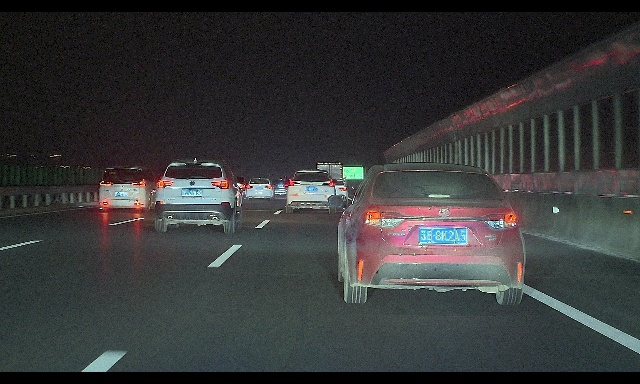car: (326, 162, 526, 305), (154, 157, 245, 234), (99, 166, 160, 213), (283, 169, 338, 214), (245, 177, 277, 201), (323, 179, 350, 202), (228, 177, 249, 194), (271, 178, 291, 195)
truck: (317, 162, 343, 193)
